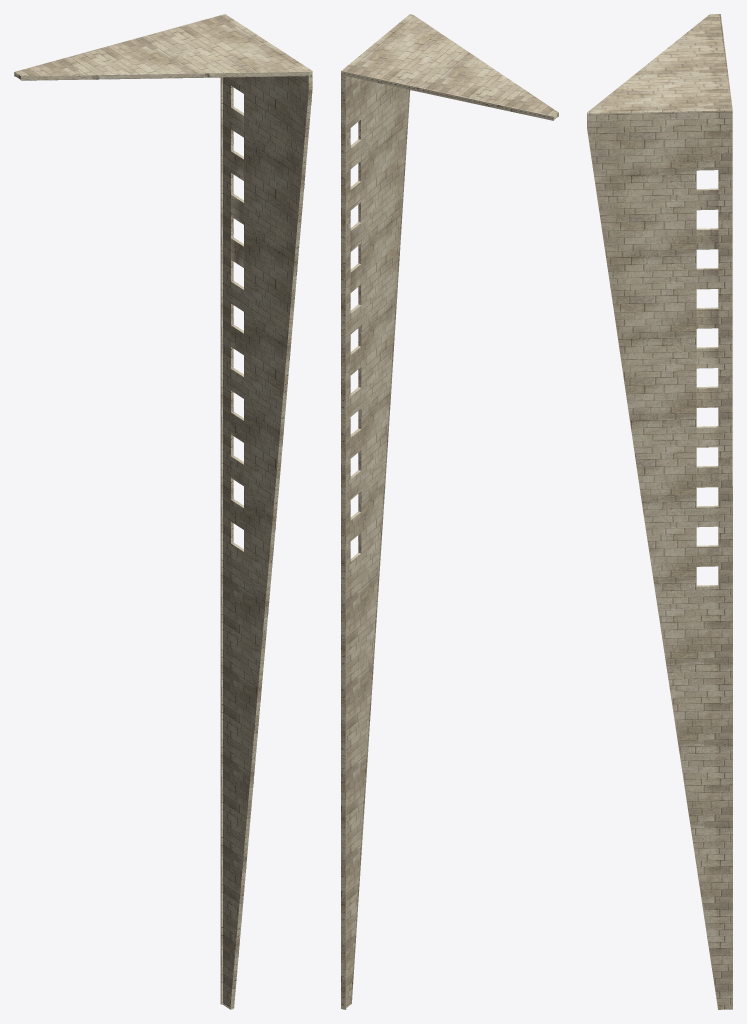
Rendered from walls_146.fbx.
3 renders of one model, left to right at view 1: azimuth 30°, elevation 25°; view 2: azimuth 150°, elevation 25°; view 3: azimuth 270°, elevation 25°, orthographic. The views are drawn at different scales.
Visible parts, largest first — view 1: walls_146; view 2: walls_146; view 3: walls_146.
Boxes of the visible parts, bbox=[...] form: walls_146: bbox=[14, 14, 312, 1009]; walls_146: bbox=[341, 14, 558, 1009]; walls_146: bbox=[587, 14, 732, 1009].
Size of the model in its own units: 377 by 1584 by 233.
